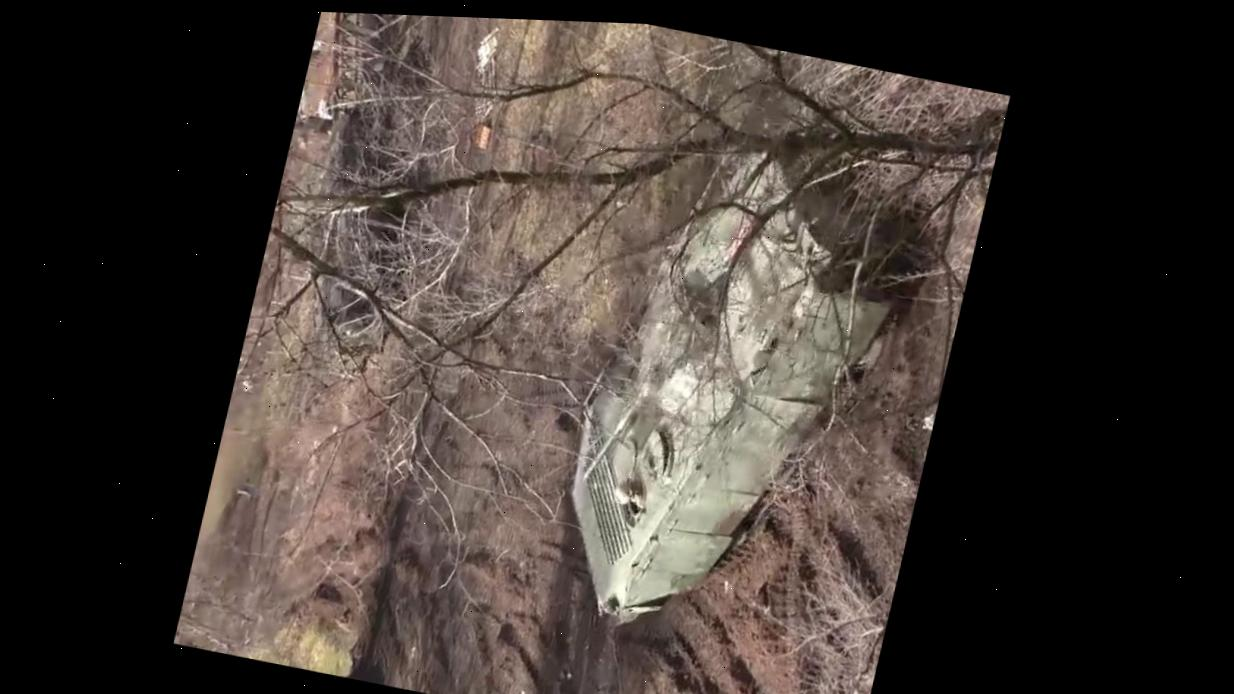tank: (533, 93, 936, 662)
